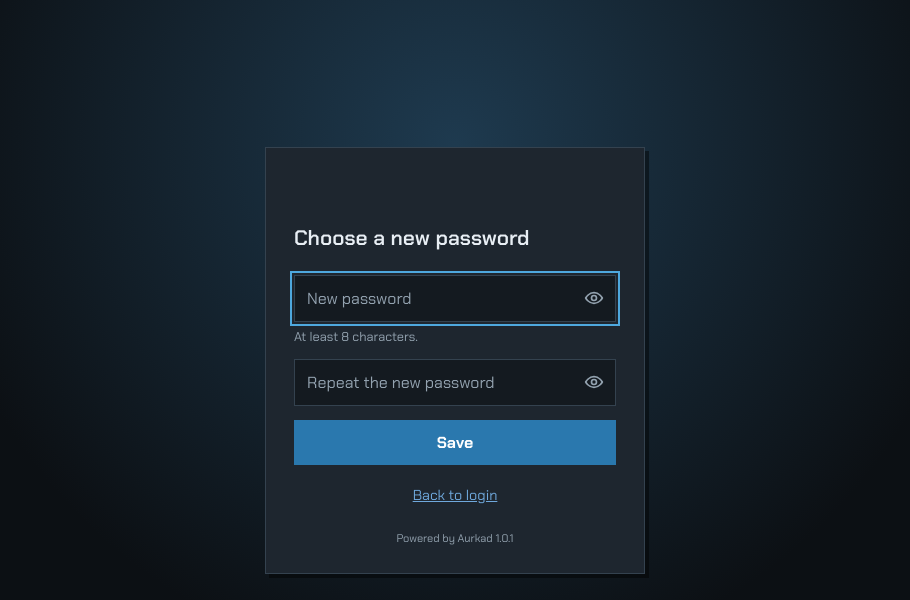
Scenario: the screen a reset link opens › sends the token with the new password
This screenshot has width=910, height=600.
Type "long-enough-password" into the password field with placeholder "New password".
click(455, 298); type("long-enough-password")  # box [294,274,616,322]
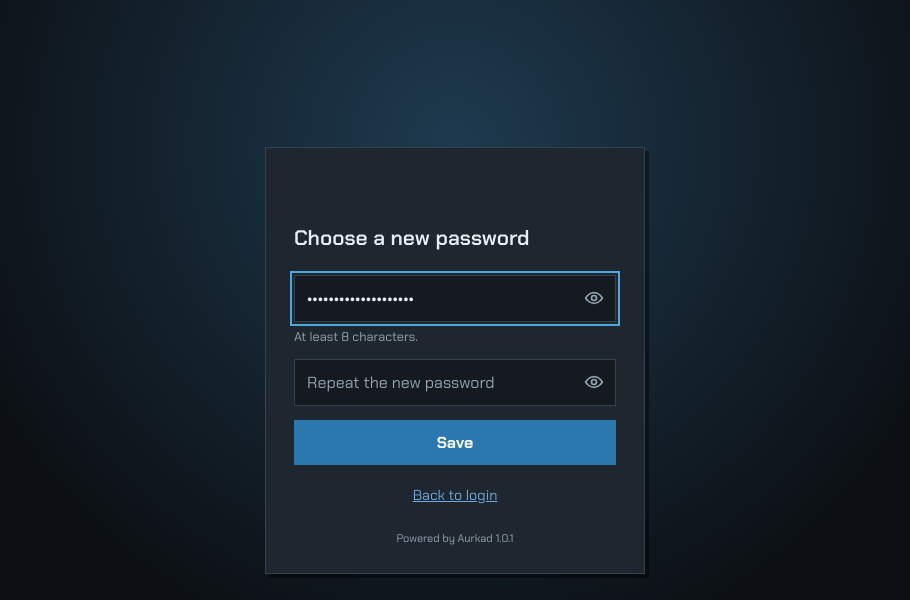
Type "long-enough-password" into the password field with placeholder "Repeat the new password".
click(455, 382); type("long-enough-password")  # box [294,358,616,406]
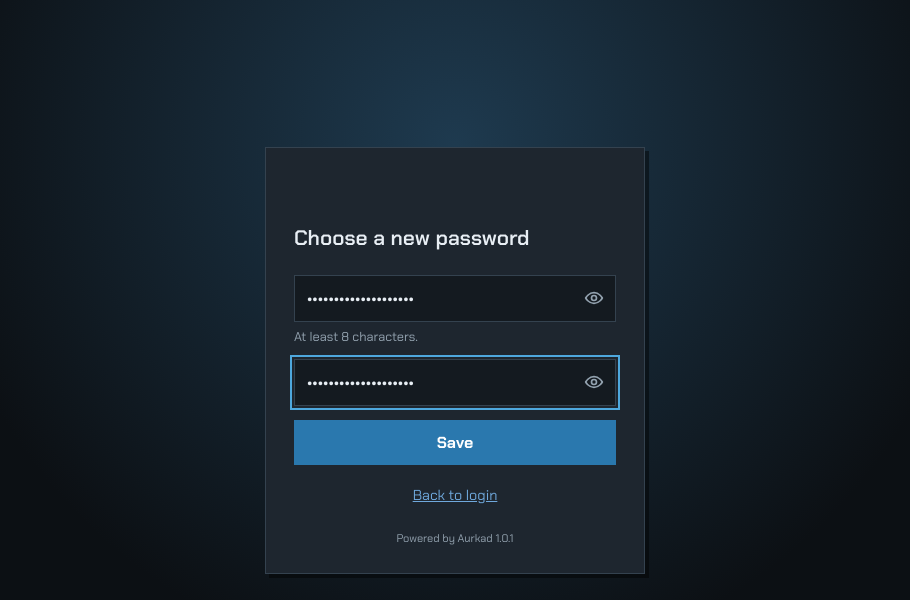
Click the button "Save".
click(455, 442)  # box [294,420,616,464]
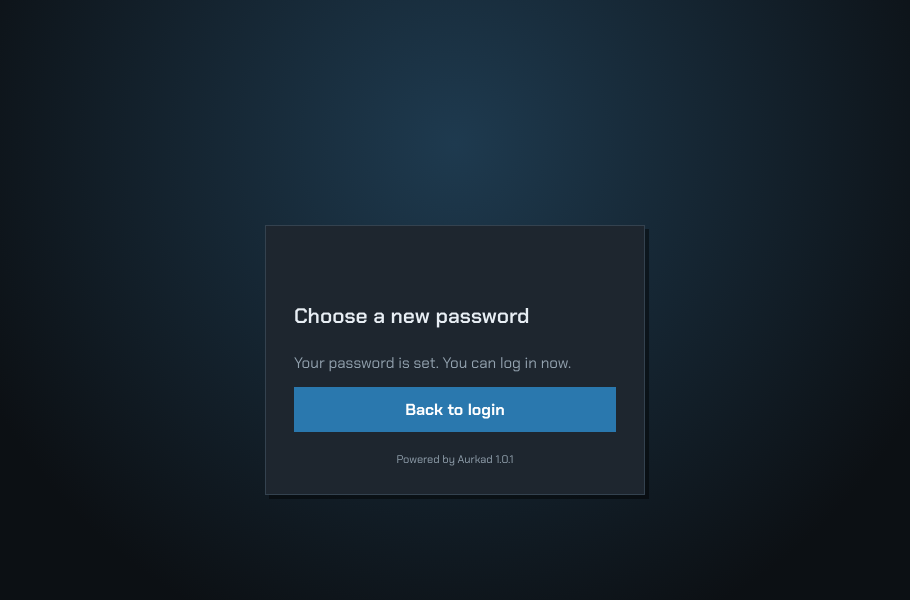
Result: the text "Your password is set. You can log in now." is shown at [294,353,616,373]
